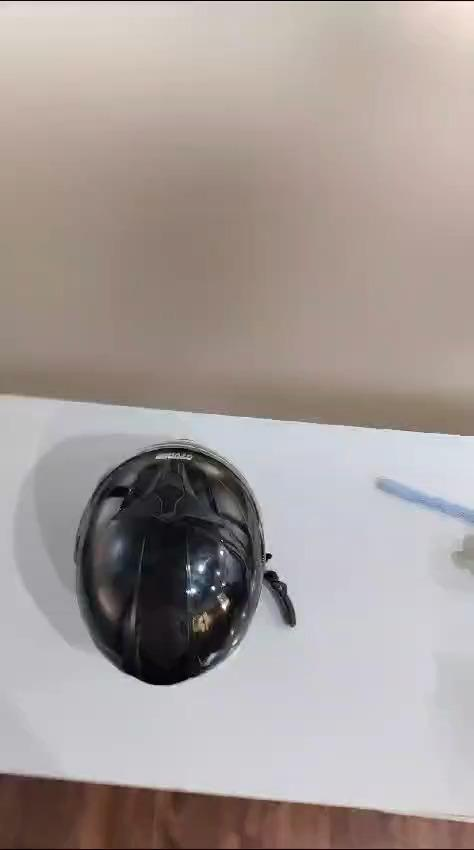Helmet: (56, 434, 285, 702)
